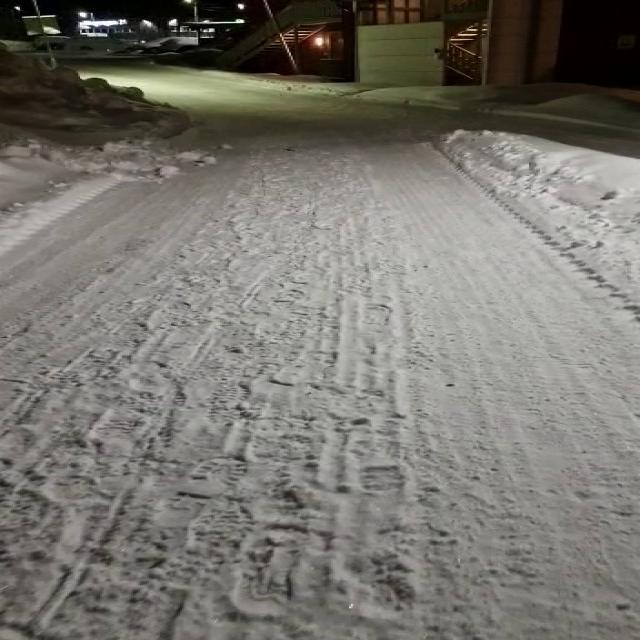path: (2, 63, 638, 640)
